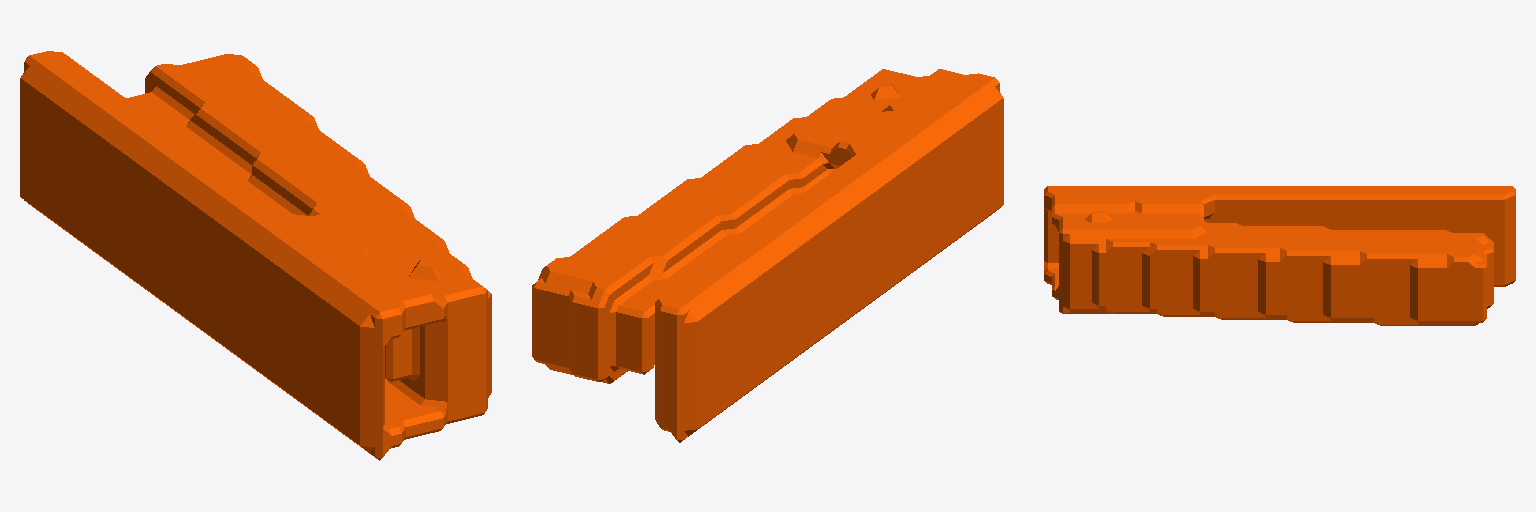
robot.urdf — Stapler_gray_d9:
<robot name="Stapler_gray_d9">
   <material name="obj_color">
      <color rgba="1.0 0.423529411765 0.0392156862745 1.0" />
   </material>
   <link name="top">
      <inertial>
         <origin rpy="3.321908427842699e-05 0.0002259767478158726 0.0002406441016216193" xyz="0.001354735082403152 0.0008502063482566235 0.0002936685474493034" />
         <mass value="0.17787588" />
         <inertia ixx="0.000225632810856992" ixy="-8.31268027816493e-06" ixz="4.932808442045722e-07" iyy="3.357945753946687e-05" iyz="4.874316615728434e-07" izz="0.00024062766531946" />
      </inertial>
      <visual>
         <origin rpy="0 0 0" xyz="0 0 0" />
         <geometry>
            <mesh filename="top_watertight_tiny.stl" scale="1 1 1" />
         </geometry>
         <material name="obj_color" />
      </visual>
      <collision>
         <origin rpy="0 0 0" xyz="0 0 0" />
         <geometry>
            <mesh filename="top_watertight_tiny.obj" scale="1 1 1" />
         </geometry>
      </collision>
   </link>
   <link name="bottom">
      <inertial>
         <origin rpy="1.633333333194242e-08 1.633333333194243e-08 1.633333333357667e-08" xyz="0.3464080000000008 0.3464080000000008 0.3464080000000008" />
         <mass value="0.0009800000000000017" />
         <inertia ixx="1.633333333248717e-08" ixy="5.447480642029219e-19" ixz="5.447480642029219e-19" iyy="1.633333333248717e-08" iyz="5.447480642029219e-19" izz="1.633333333248717e-08" />
      </inertial>
      <visual>
         <origin rpy="0 0 0" xyz="0 0 0" />
         <geometry>
            <mesh filename="bottom_watertight_tiny.stl" scale="1 1 1" />
         </geometry>
         <material name="obj_color" />
      </visual>
   </link>
   <joint name="rotation" type="revolute">
      <origin xyz="0 0 0" />
      <axis xyz="0 0 -1" />
      <parent link="bottom" />
      <child link="top" />
      <dynamics damping="1.0" friction="1.0" />
      <limit effort="0.1" velocity="0.1" lower="0" upper="0.001" />
   </joint>
</robot>

--- Facts derived from the render (not from the file) ---
The picture shows the robot from 3 angles, left to right: view 1: azimuth 30°, elevation 25°; view 2: azimuth 150°, elevation 25°; view 3: azimuth 270°, elevation 25°; orthographic projection.
Robot: Stapler_gray_d9 — 2 links, 1 joints (1 revolute); root link bottom; default pose: all joints at 0.
Visible links, largest first — view 1: top; view 2: top; view 3: top.
Boxes of the visible links, x1,y1,x2,y2 form: top: (20, 51, 491, 460); top: (532, 69, 1003, 442); top: (1044, 186, 1515, 325).
Size in the robot's own frame: 0.042 by 0.13 by 0.03 metres.
Meshes: 2 distinct files referenced, 1 mesh visuals loaded (1 binary STL); not drawn: 1 (reference not matched to a file when rendering).